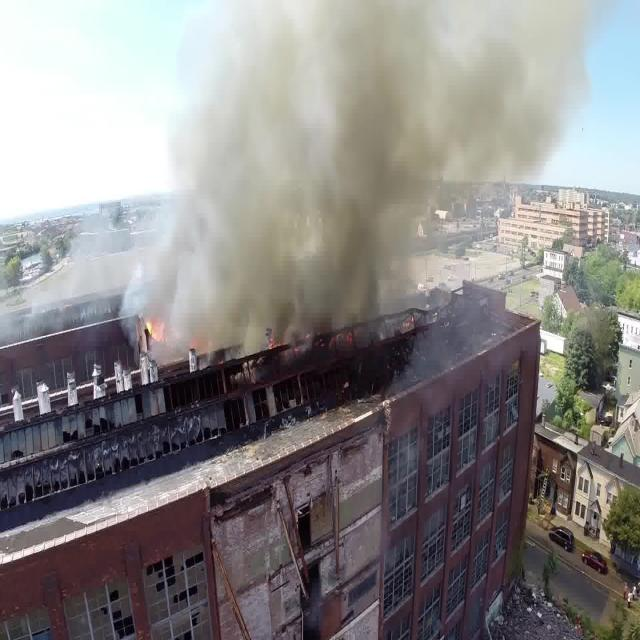smoke: (174, 48, 405, 282), (408, 42, 539, 140)
